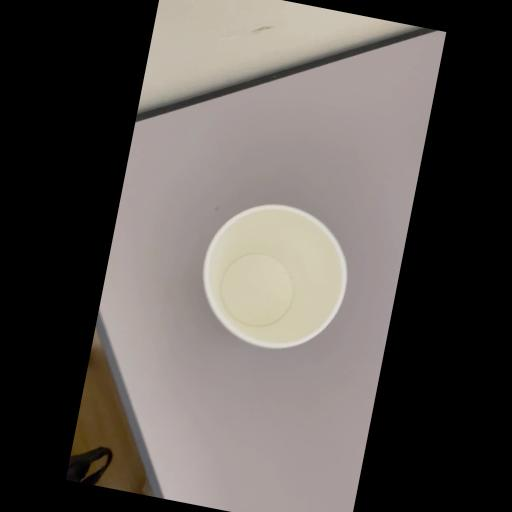lp_paper_cup: (187, 189, 360, 362), (189, 192, 360, 360)
